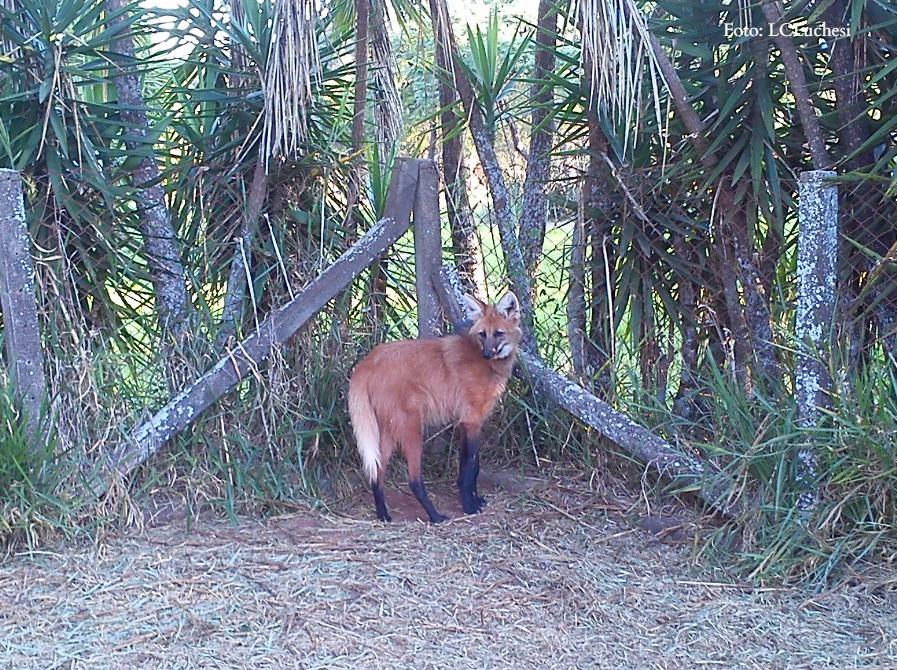LoboGuara: (337, 287, 533, 525)
